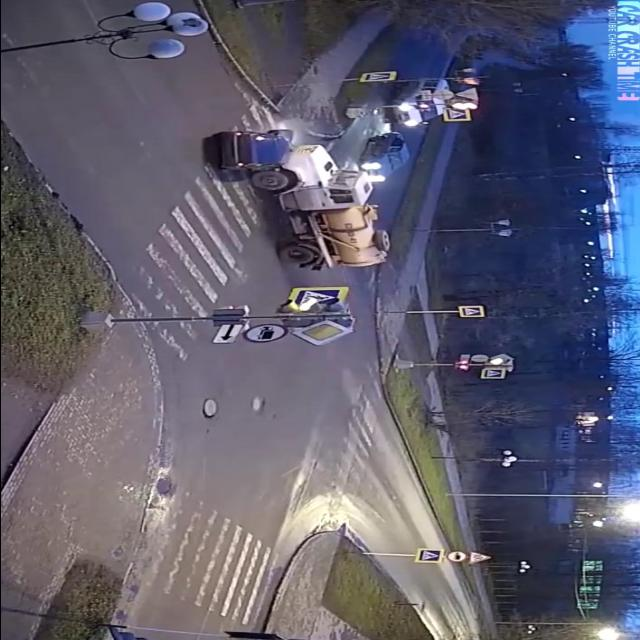accident: (189, 116, 399, 276)
